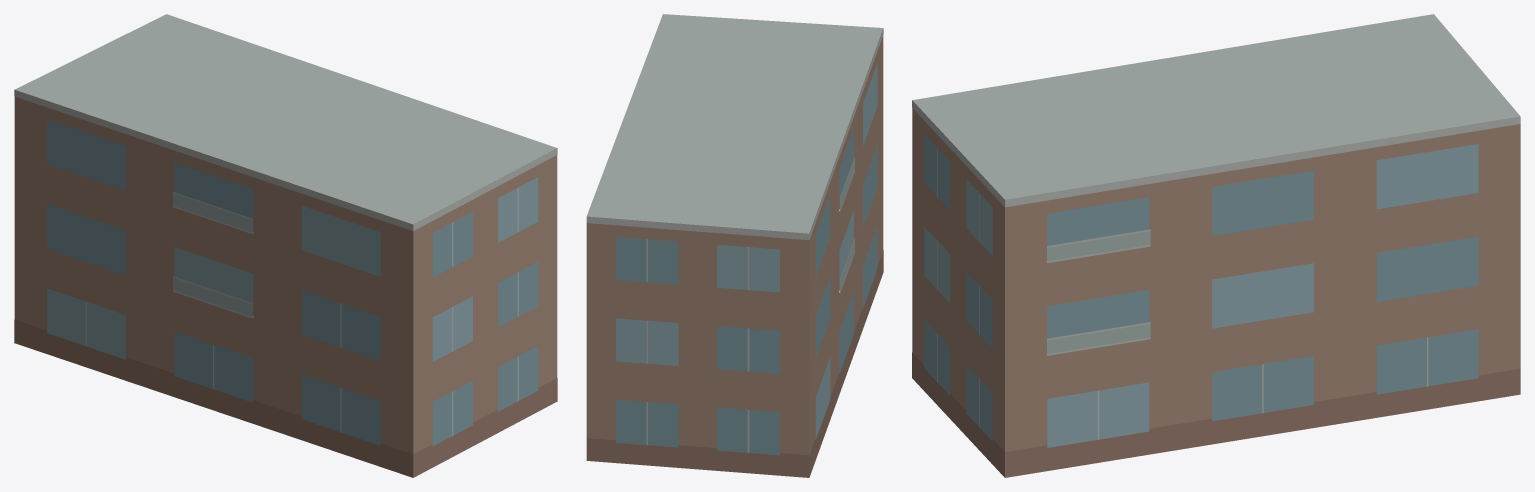
File: survey-upis-32702053.glb
3 renders of one model, left to right at view 1: azimuth 30°, elevation 25°; view 2: azimuth 150°, elevation 25°; view 3: azimuth 270°, elevation 25°, orthographic. The views are drawn at different scales.
Parts seen in each view (by area): view 1: survey-upis-32702053.tmp; view 2: survey-upis-32702053.tmp; view 3: survey-upis-32702053.tmp.
Boxes of the visible parts, x1,y1,x2,y2 form: survey-upis-32702053.tmp: [14, 14, 557, 477]; survey-upis-32702053.tmp: [586, 14, 883, 477]; survey-upis-32702053.tmp: [912, 14, 1520, 477].
Bounding box in the file's own units: 13.14 × 9.15 × 18.17.
